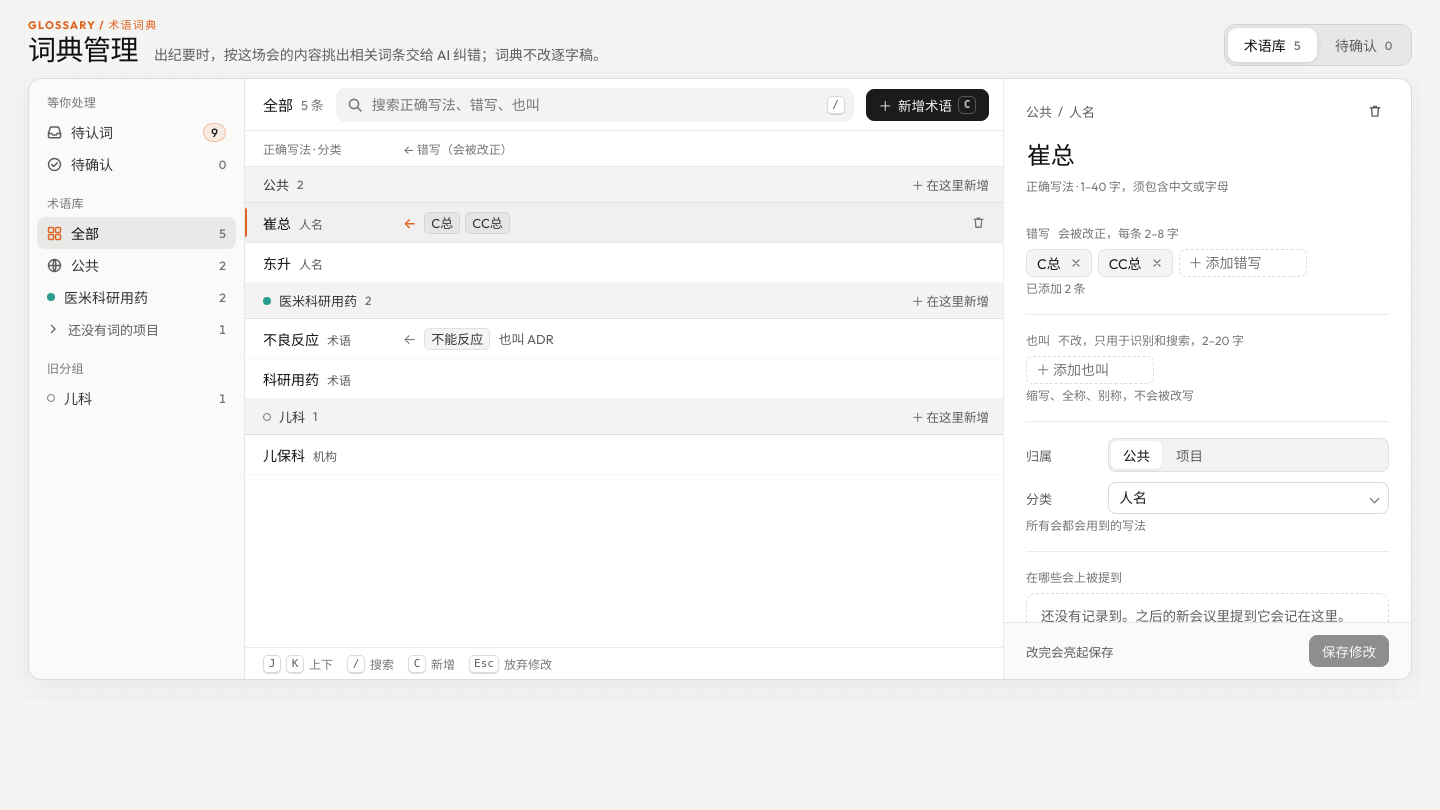
Test: 词典页 · 左栏 › 没有词的项目收进折叠区，展开后有待认词的标「待认 N」
expect the text "崔总" is shown: met, box [263,213,291,233]
expect the field named "正确写法" is shown: met, box [1020,133,1395,173]
What coordinates should you click on to do the following:
click the button "还没有词的项目 1"
I would click on:
 (136, 329)
Its box is [37,313,236,345].
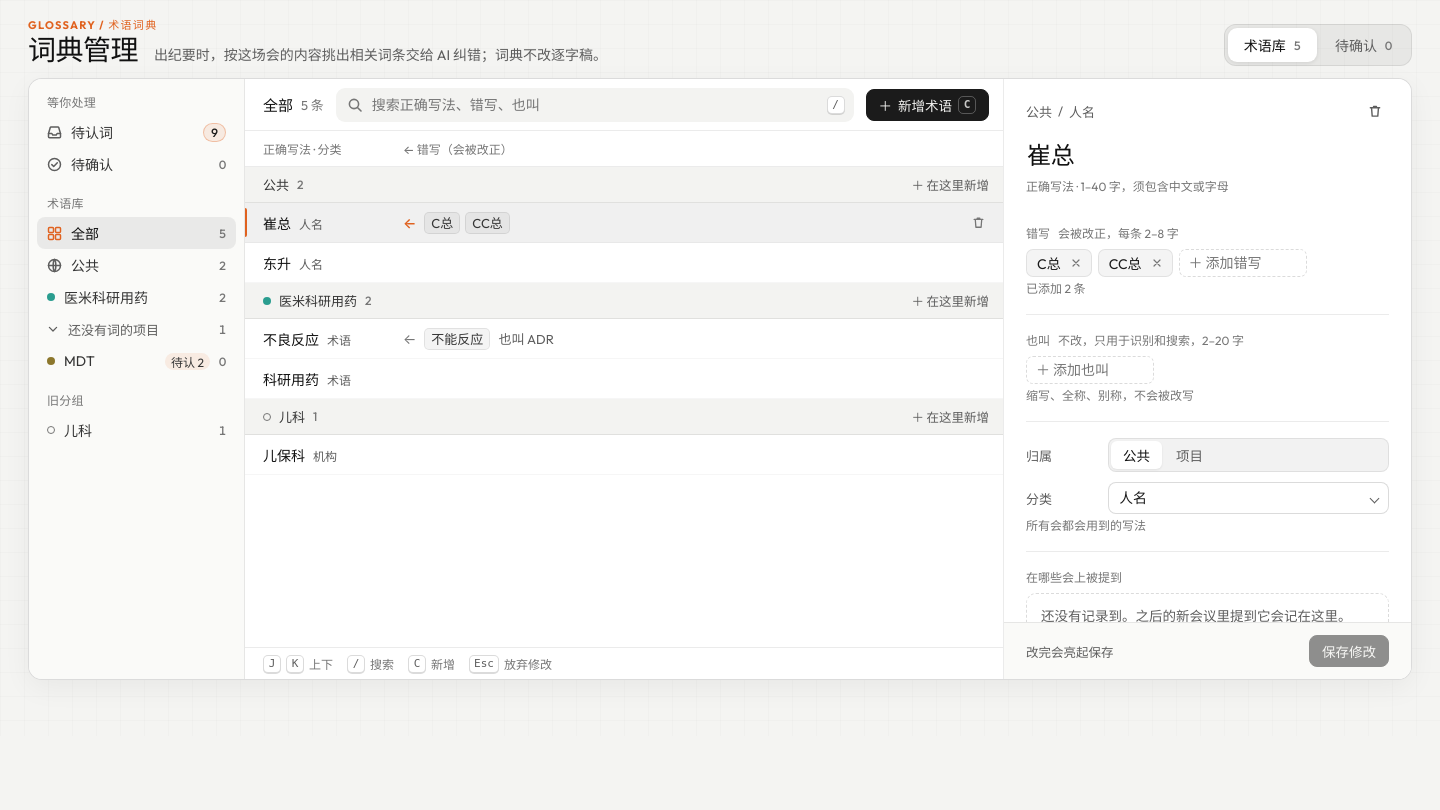
expect the button "MDT 待认 2 0" is shown: met
What coordinates should you click on to do the following:
click the button "MDT 待认 2 0"
I would click on:
 (136, 361)
Its box is [37,345,236,377].
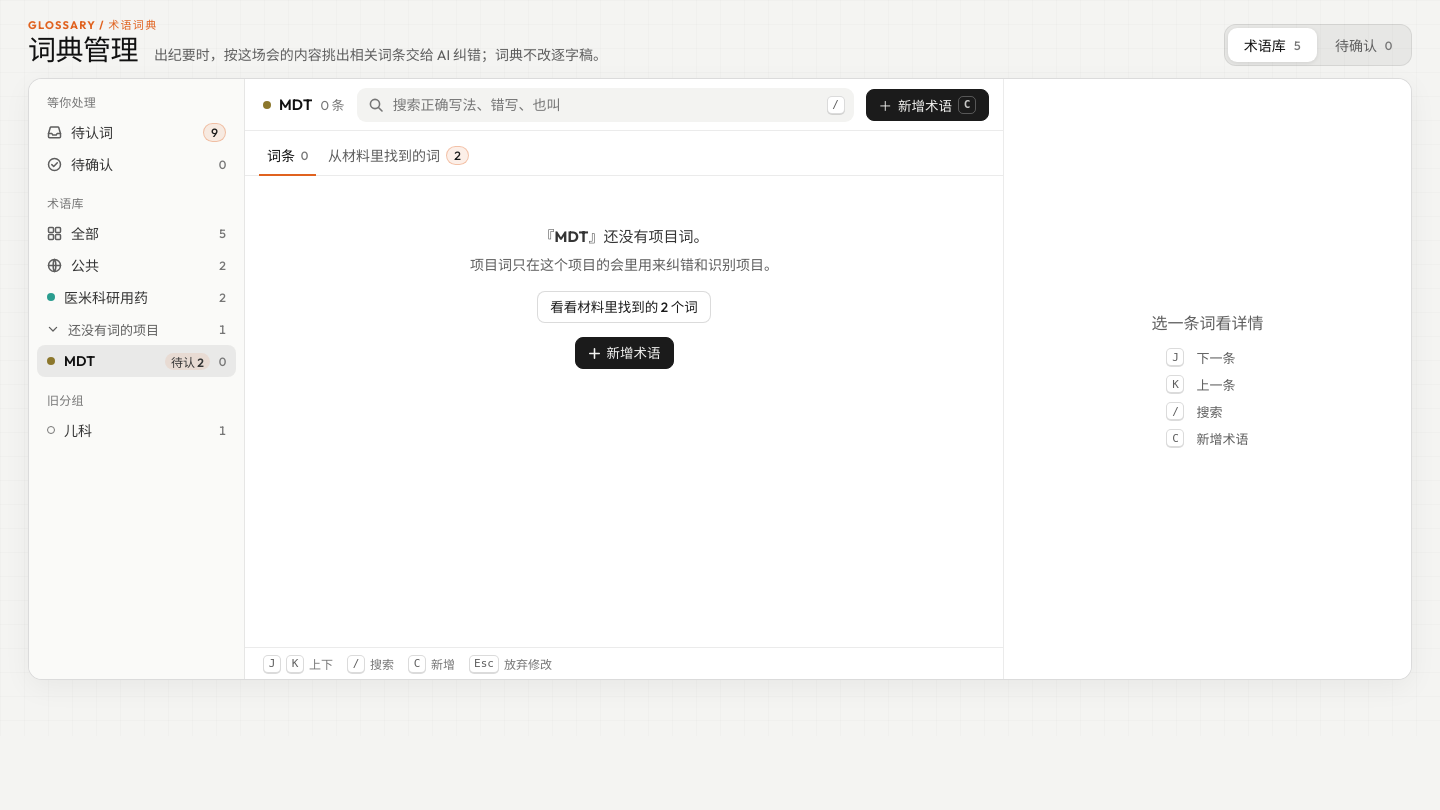
expect the text "『MDT』还没有项目词。" is shown: met, box [540,227,708,246]
expect the text "项目词只在这个项目的会里用来纠错和识别项目。" is shown: met, box [470,256,778,274]
# 空项目里有待认词，给一个去看的入口
What coordinates should you click on to do the following:
click the button "看看材料里找到的 2 个词"
I would click on:
 (624, 308)
Its box is [537,292,711,324].
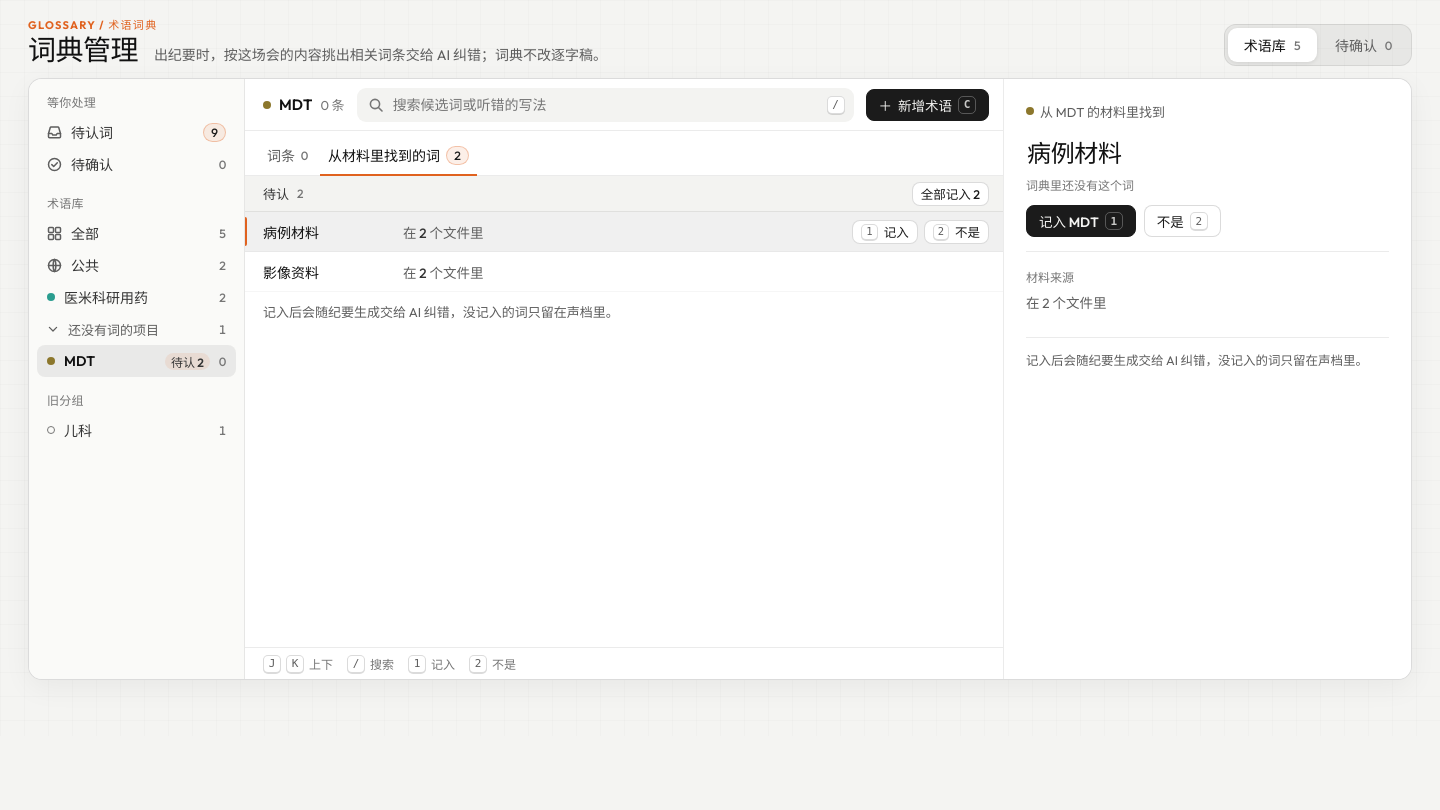
expect the text "病例材料" is shown: met, box [263,224,319,242]
